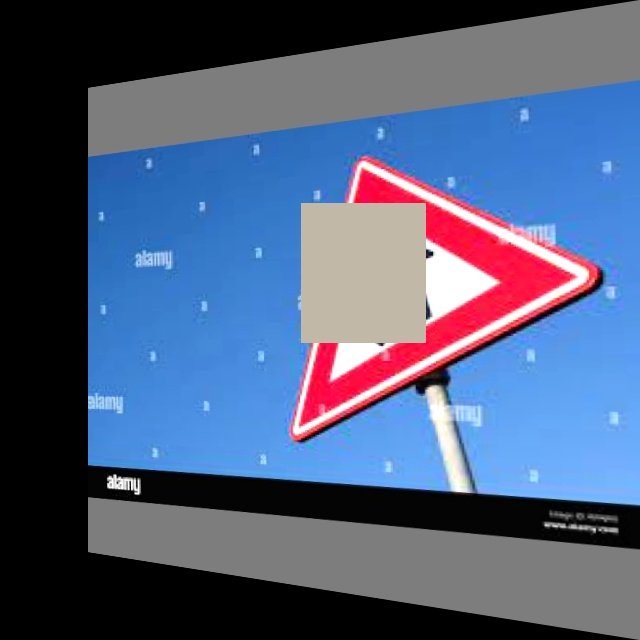Mandatory_Two_Way_Traffic: (280, 134, 593, 429)
